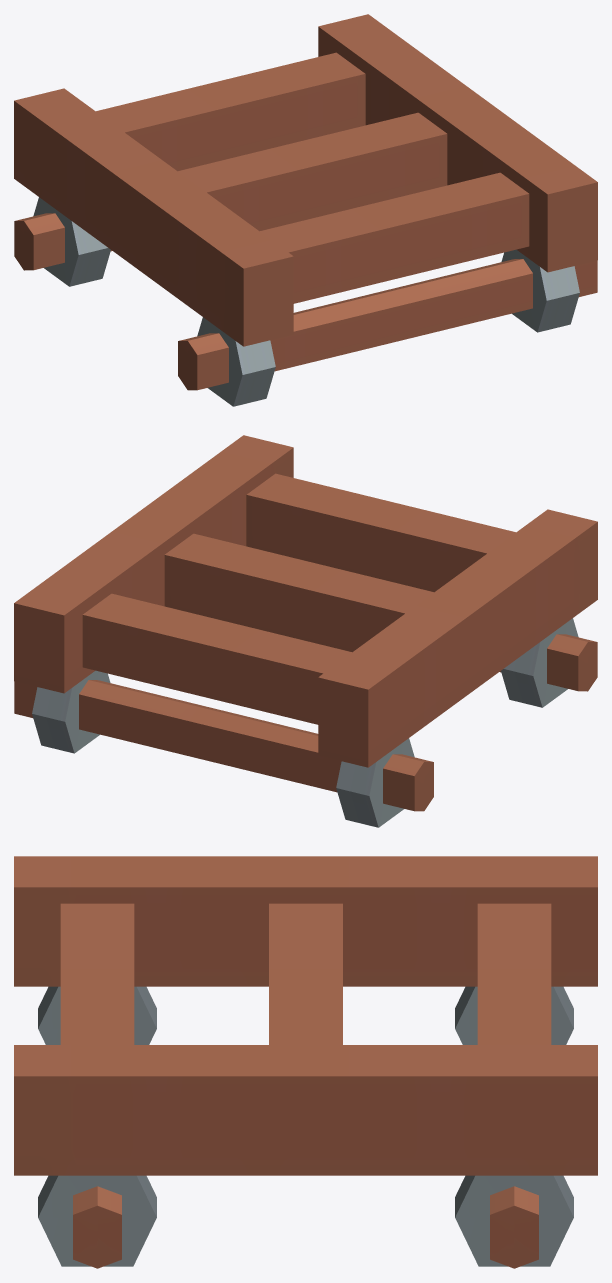
File: boatrack.glb
3 renders of one model, top to bottom at view 1: azimuth 30°, elevation 25°; view 2: azimuth 150°, elevation 25°; view 3: azimuth 270°, elevation 25°, orthographic. The views are drawn at different scales.
Visible parts, largest first — view 1: boatrack; view 2: boatrack; view 3: boatrack.
Boxes of the visible parts, left/top/right/bottom form: boatrack: left=14, top=14, right=597, bottom=406; boatrack: left=14, top=435, right=597, bottom=827; boatrack: left=14, top=856, right=597, bottom=1268.
Size of the model in its own units: 0.3948 by 0.1451 by 0.3922.
1 material, 1 textured.
